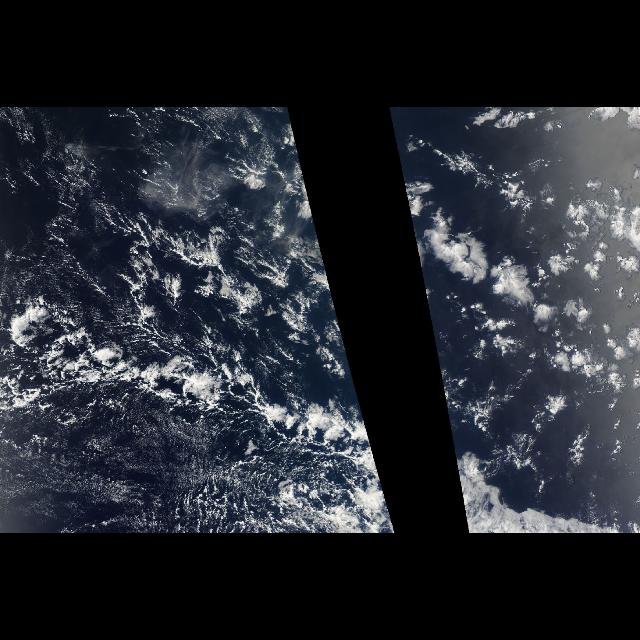Fish: (6, 303, 384, 491), (426, 303, 528, 491)
Flower: (388, 108, 640, 404), (224, 108, 360, 404)
Gravel: (433, 193, 633, 381)
Sugar: (0, 396, 296, 534), (18, 113, 110, 295)
